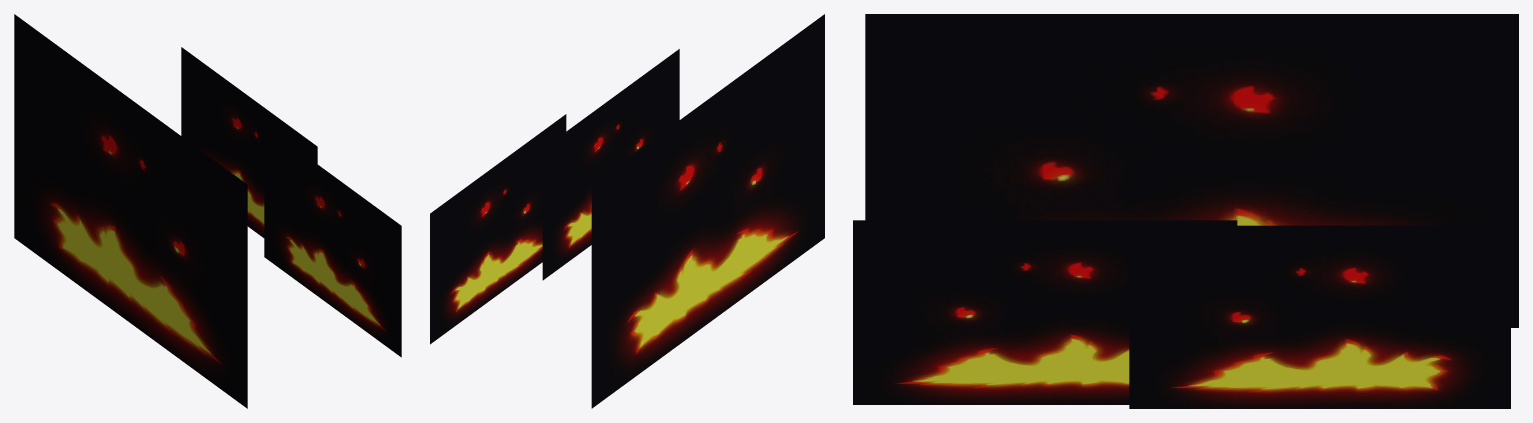
File: PlatformFire.glb
The picture shows the model from 3 angles, left to right: view 1: azimuth 30°, elevation 25°; view 2: azimuth 150°, elevation 25°; view 3: azimuth 270°, elevation 25°; orthographic projection. The views are drawn at different scales.
Parts seen in each view (by area): view 1: fire; view 2: fire; view 3: fire.
Boxes of the visible parts, bbox=[...] form: fire: bbox=[14, 14, 401, 408]; fire: bbox=[430, 14, 824, 408]; fire: bbox=[853, 14, 1518, 408].
Bounding box in the file's own units: 14.67 × 19.14 × 36.77.
Materials: 1 (1 with a texture image).
